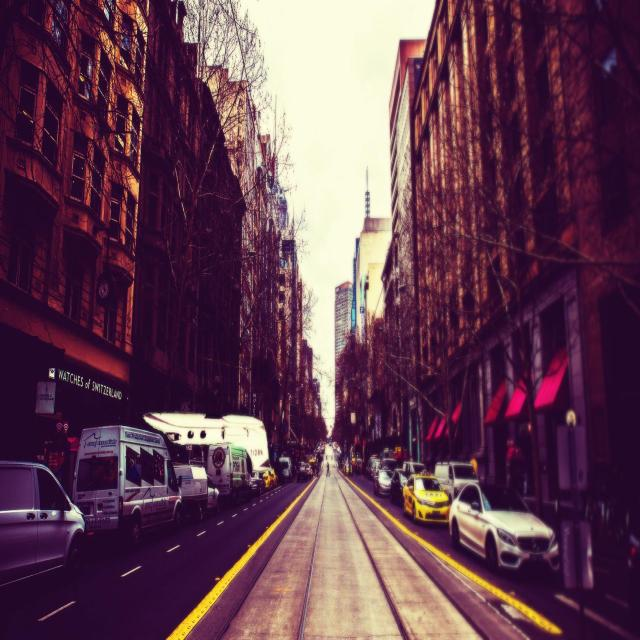airplane: (145, 414, 269, 472)
